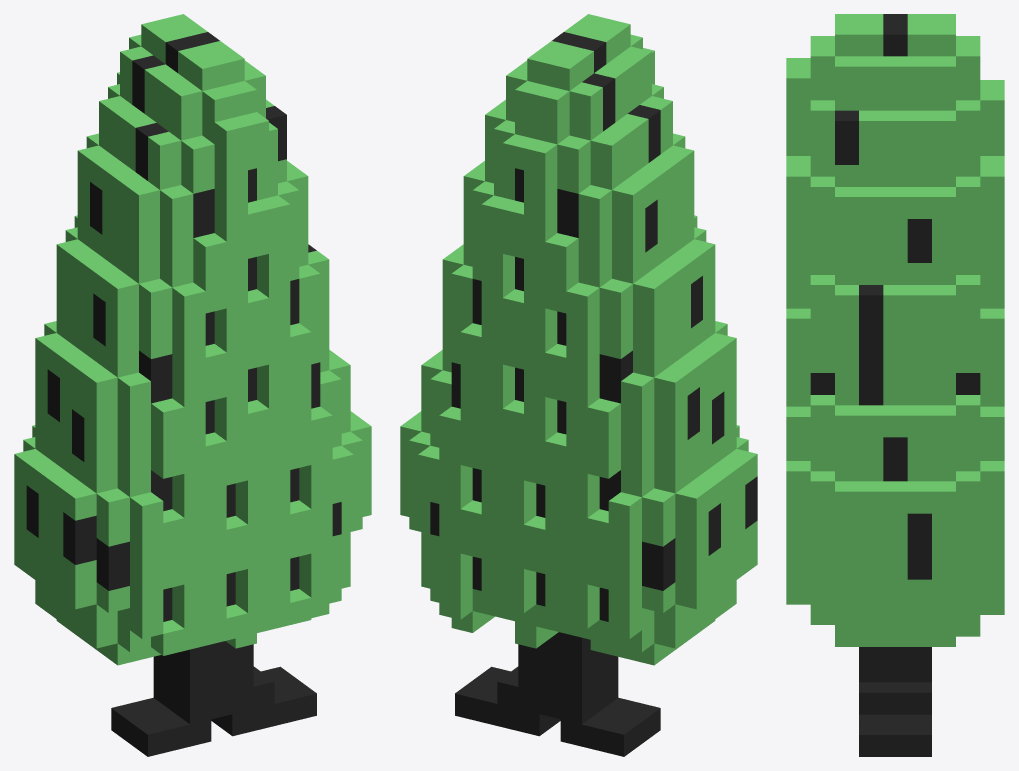
The model's file is tree02.obj.
3 renders of one model, left to right at view 1: azimuth 30°, elevation 25°; view 2: azimuth 150°, elevation 25°; view 3: azimuth 270°, elevation 25°, orthographic.
Bounding box in the file's own units: 1.4 × 3.1 × 0.9.
Materials: 1 (1 with a texture image).
